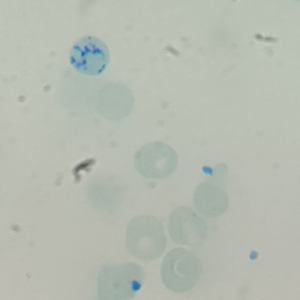aggregate reticulocyte: (68, 35, 111, 77)
erythrocyte: (123, 213, 168, 263), (159, 247, 204, 295), (166, 205, 213, 249), (132, 140, 181, 181), (92, 80, 135, 123), (191, 182, 230, 218)
